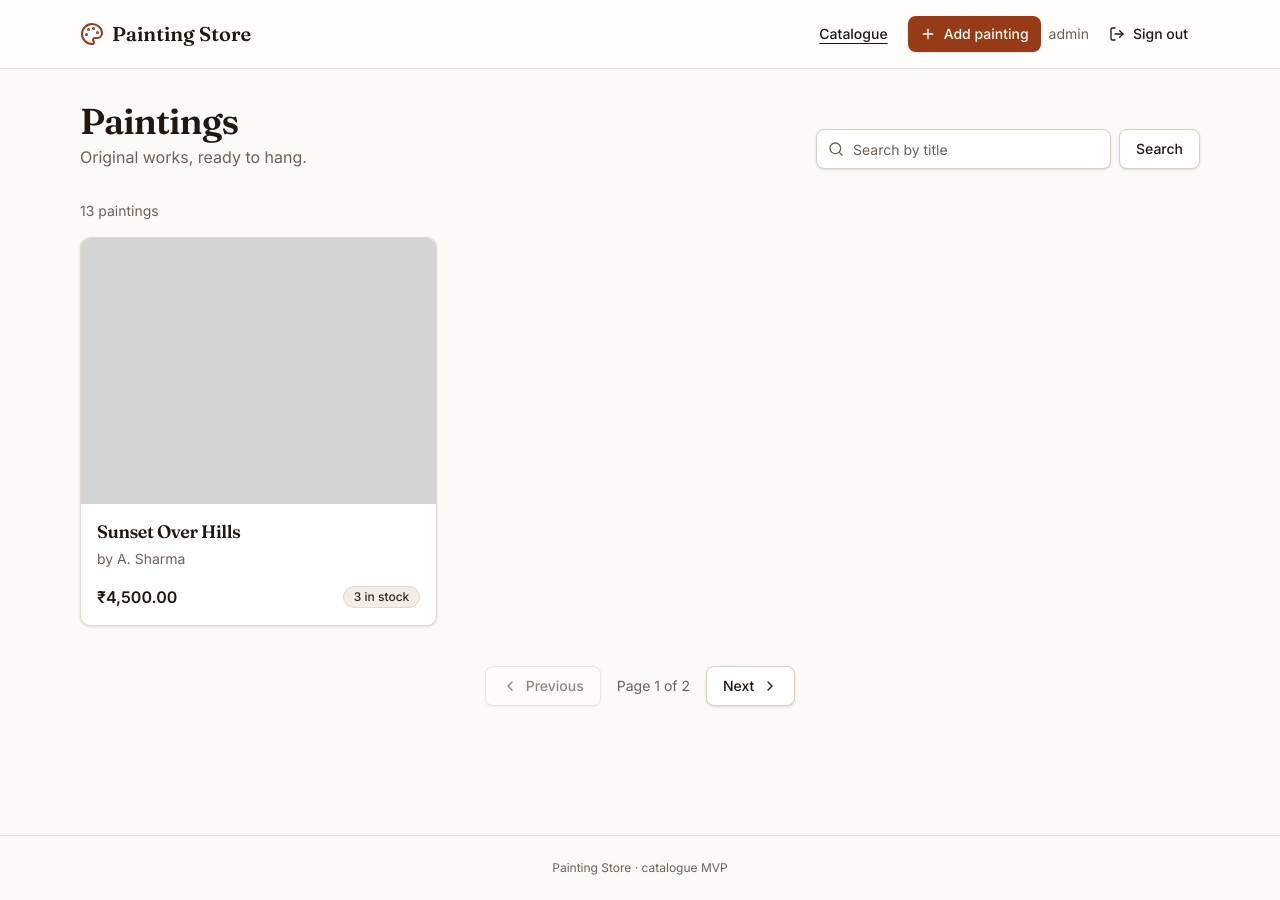
PaintingListPage › pagination › shows the total count and page controls, and moves between pages
Expected: the link "Sunset Over Hills" is shown, [97,520,240,544]
Expected: the text "13 paintings" is shown, [80,202,159,219]
Click the button "Next" at (751, 686), box [706,666,795,706]
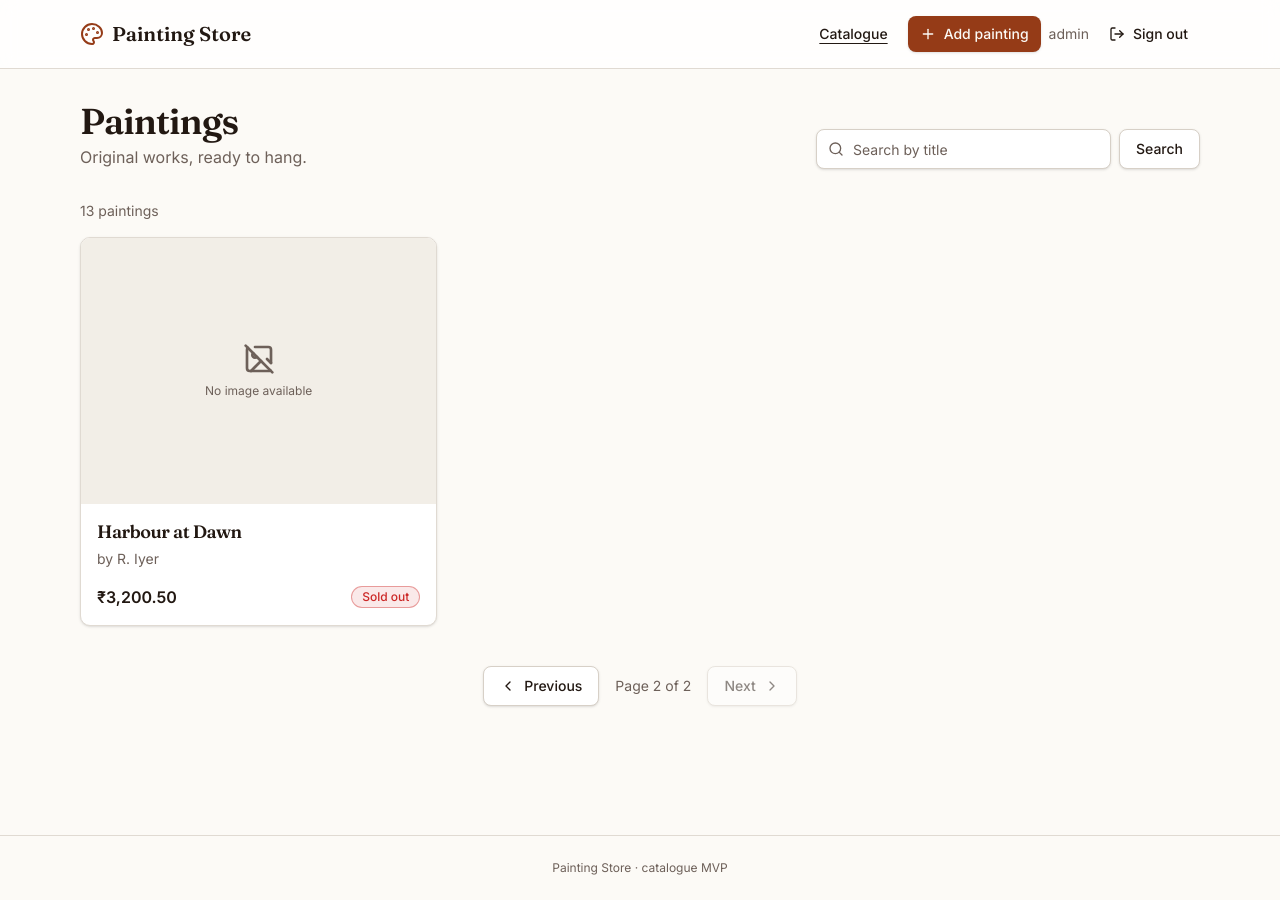
Expected: the link "Harbour at Dawn" is shown, [97,520,242,544]
Expected: the text "Page 2 of 2" is shown, [615,676,691,696]
Expected: the button "Next" is disabled, [707,666,797,706]
Click the button "Previous" at (541, 686), box [483,666,599,706]
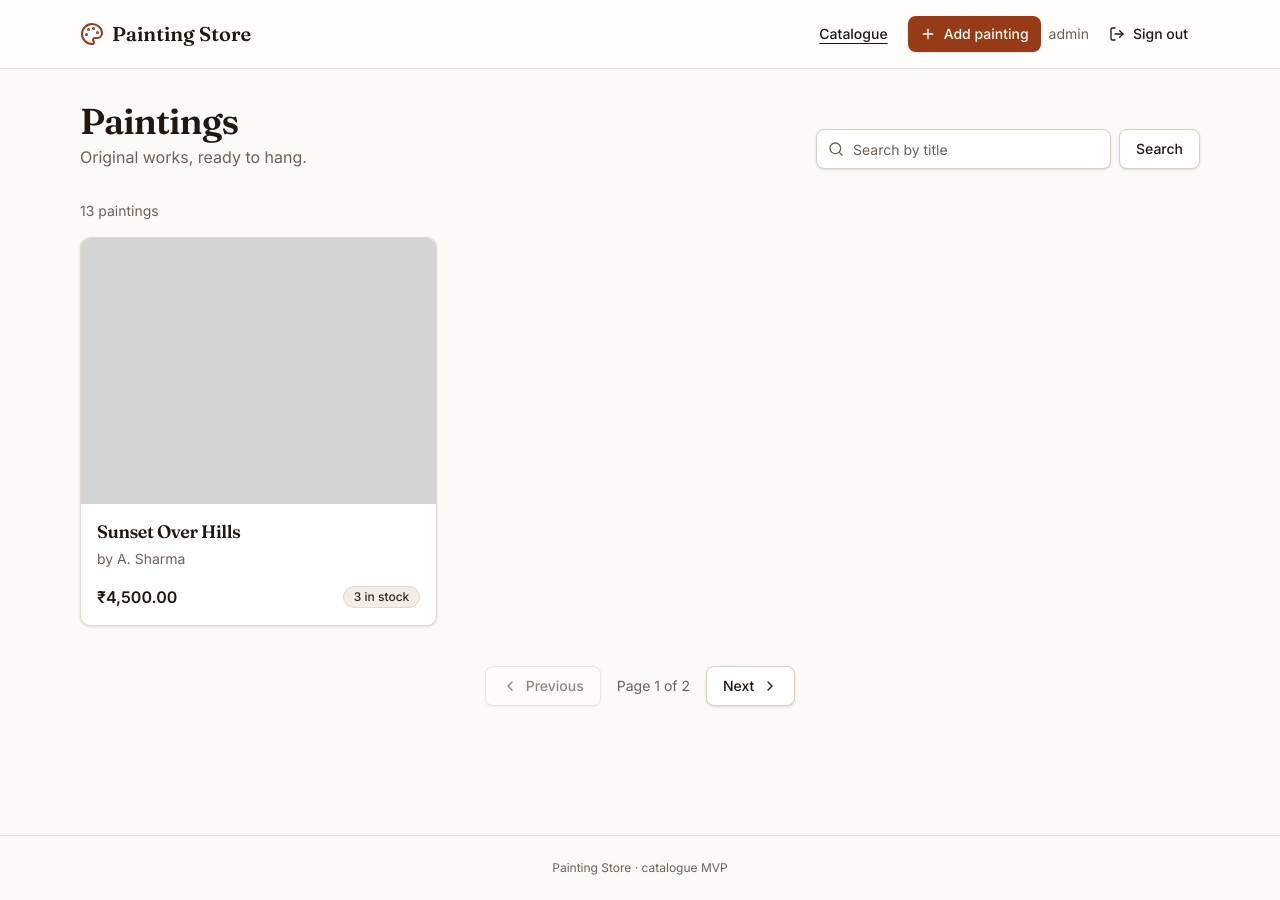
Expected: the link "Sunset Over Hills" is shown, [97,520,240,544]
